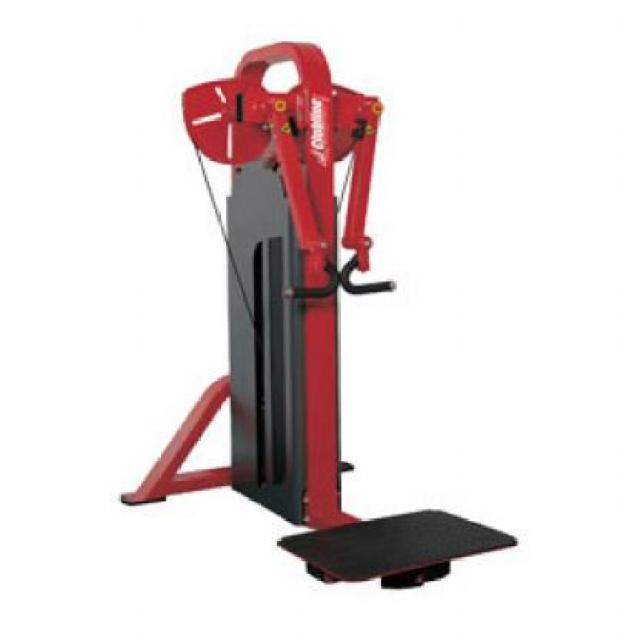lateral raises machine: (112, 43, 520, 594)
